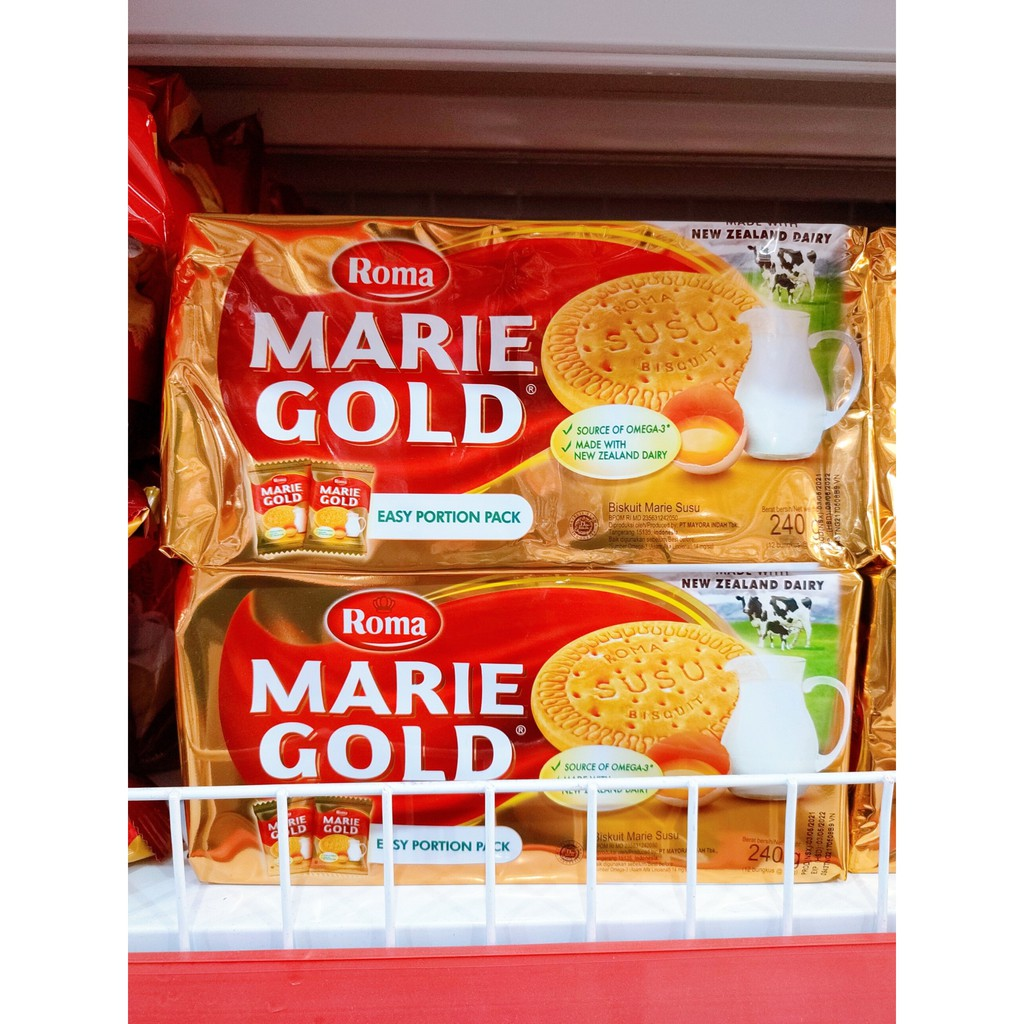Roma Marie Gold (240g): (166, 203, 889, 579), (153, 590, 869, 855)
